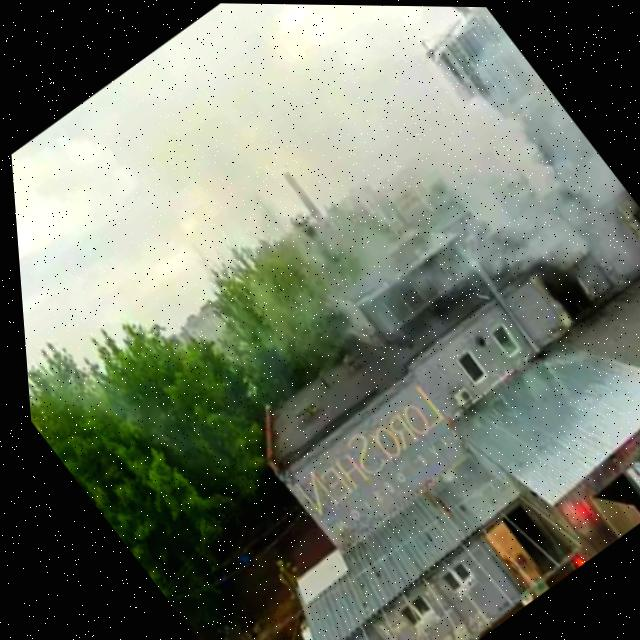Smoke: (238, 3, 640, 327)
